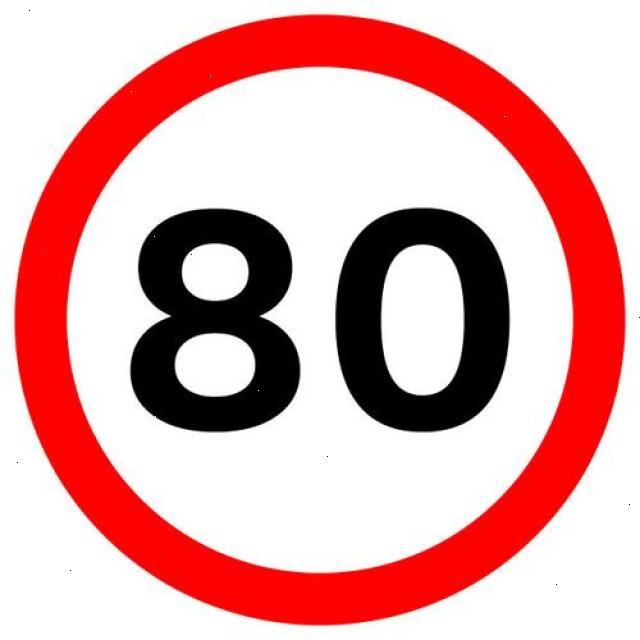speed limit 80: (18, 16, 627, 627)
